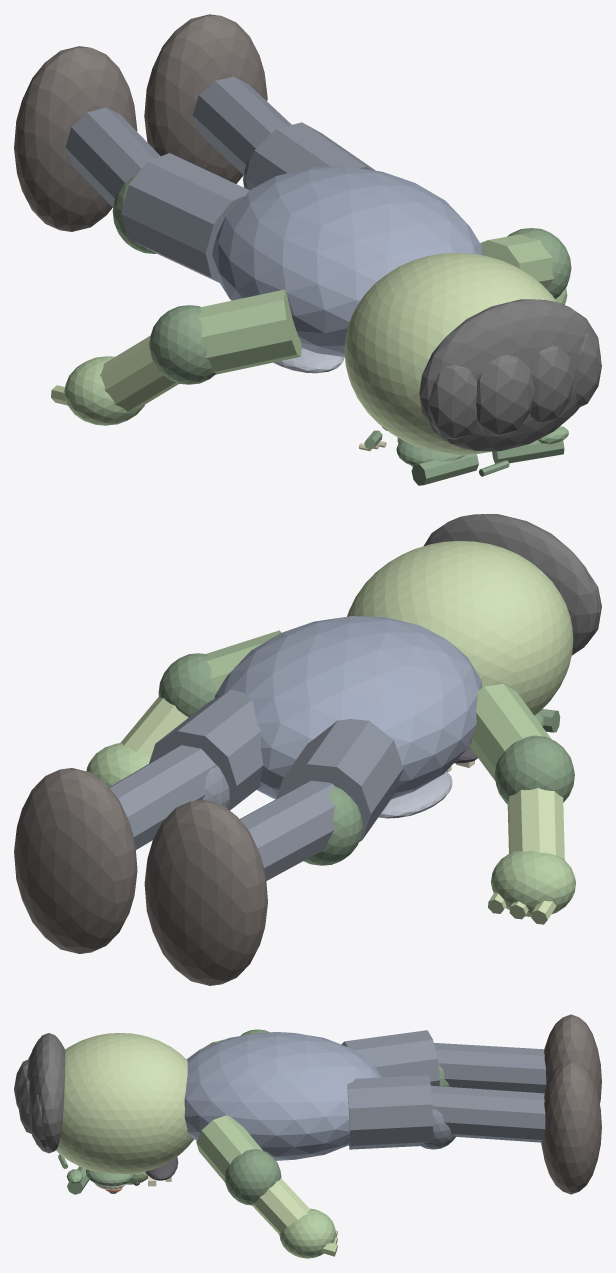
File: zombie.glb
3 views of the same model, one above another, from view 1: azimuth 30°, elevation 25°; view 2: azimuth 150°, elevation 25°; view 3: azimuth 270°, elevation 25° (orthographic). The views are drawn at different scales.
Parts seen in each view (by area): view 1: torso, head, left_boot, right_boot, hair_cap, left_thigh, left_upper_arm, right_lower_leg, left_lower_leg, right_thigh, hair_tuft_-0.07, left_elbow (+12 smaller); view 2: torso, head, right_boot, left_boot, left_thigh, hair_cap, right_thigh, left_lower_leg, right_lower_leg, left_hand, left_elbow, left_upper_arm (+8 smaller); view 3: torso, head, right_boot, right_thigh, right_lower_leg, left_lower_leg, hair_cap, left_thigh, left_boot, right_elbow, right_upper_arm, right_hand (+6 smaller).
Part boxes in pixels (x1=…): torso: x1=212, y1=166, x2=483, y2=357; head: x1=344, y1=252, x2=556, y2=454; left_boot: x1=14, y1=46, x2=137, y2=231; right_boot: x1=144, y1=14, x2=267, y2=183; hair_cap: x1=419, y1=299, x2=600, y2=451; left_thigh: x1=121, y1=153, x2=249, y2=282; left_upper_arm: x1=198, y1=289, x2=301, y2=374; right_lower_leg: x1=192, y1=76, x2=291, y2=174; left_lower_leg: x1=65, y1=107, x2=160, y2=207; right_thigh: x1=245, y1=122, x2=375, y2=190; hair_tuft_-0.07: x1=476, y1=355, x2=534, y2=435; left_elbow: x1=149, y1=305, x2=216, y2=384; torso: x1=214, y1=616, x2=482, y2=799; head: x1=347, y1=541, x2=573, y2=715; right_boot: x1=14, y1=768, x2=137, y2=953; left_boot: x1=144, y1=799, x2=267, y2=985; left_thigh: x1=276, y1=719, x2=403, y2=841; hair_cap: x1=424, y1=514, x2=598, y2=655; right_thigh: x1=149, y1=690, x2=263, y2=810; left_lower_leg: x1=239, y1=780, x2=336, y2=880; right_lower_leg: x1=109, y1=745, x2=216, y2=849; left_hand: x1=491, y1=851, x2=575, y2=916; left_elbow: x1=494, y1=735, x2=574, y2=804; left_upper_arm: x1=469, y1=684, x2=551, y2=780; torso: x1=184, y1=1032, x2=382, y2=1160; head: x1=56, y1=1033, x2=193, y2=1173; right_boot: x1=541, y1=1059, x2=601, y2=1194; right_thigh: x1=347, y1=1075, x2=433, y2=1149; right_lower_leg: x1=431, y1=1085, x2=545, y2=1142; left_lower_leg: x1=434, y1=1043, x2=546, y2=1093; hair_cap: x1=26, y1=1033, x2=65, y2=1153; left_thigh: x1=341, y1=1030, x2=439, y2=1086; left_boot: x1=544, y1=1014, x2=601, y2=1103; right_elbow: x1=224, y1=1149, x2=281, y2=1205; right_upper_arm: x1=196, y1=1115, x2=262, y2=1182; right_hand: x1=279, y1=1208, x2=335, y2=1258.
Size of the model in its own units: 1.68 by 0.68 by 2.48.
